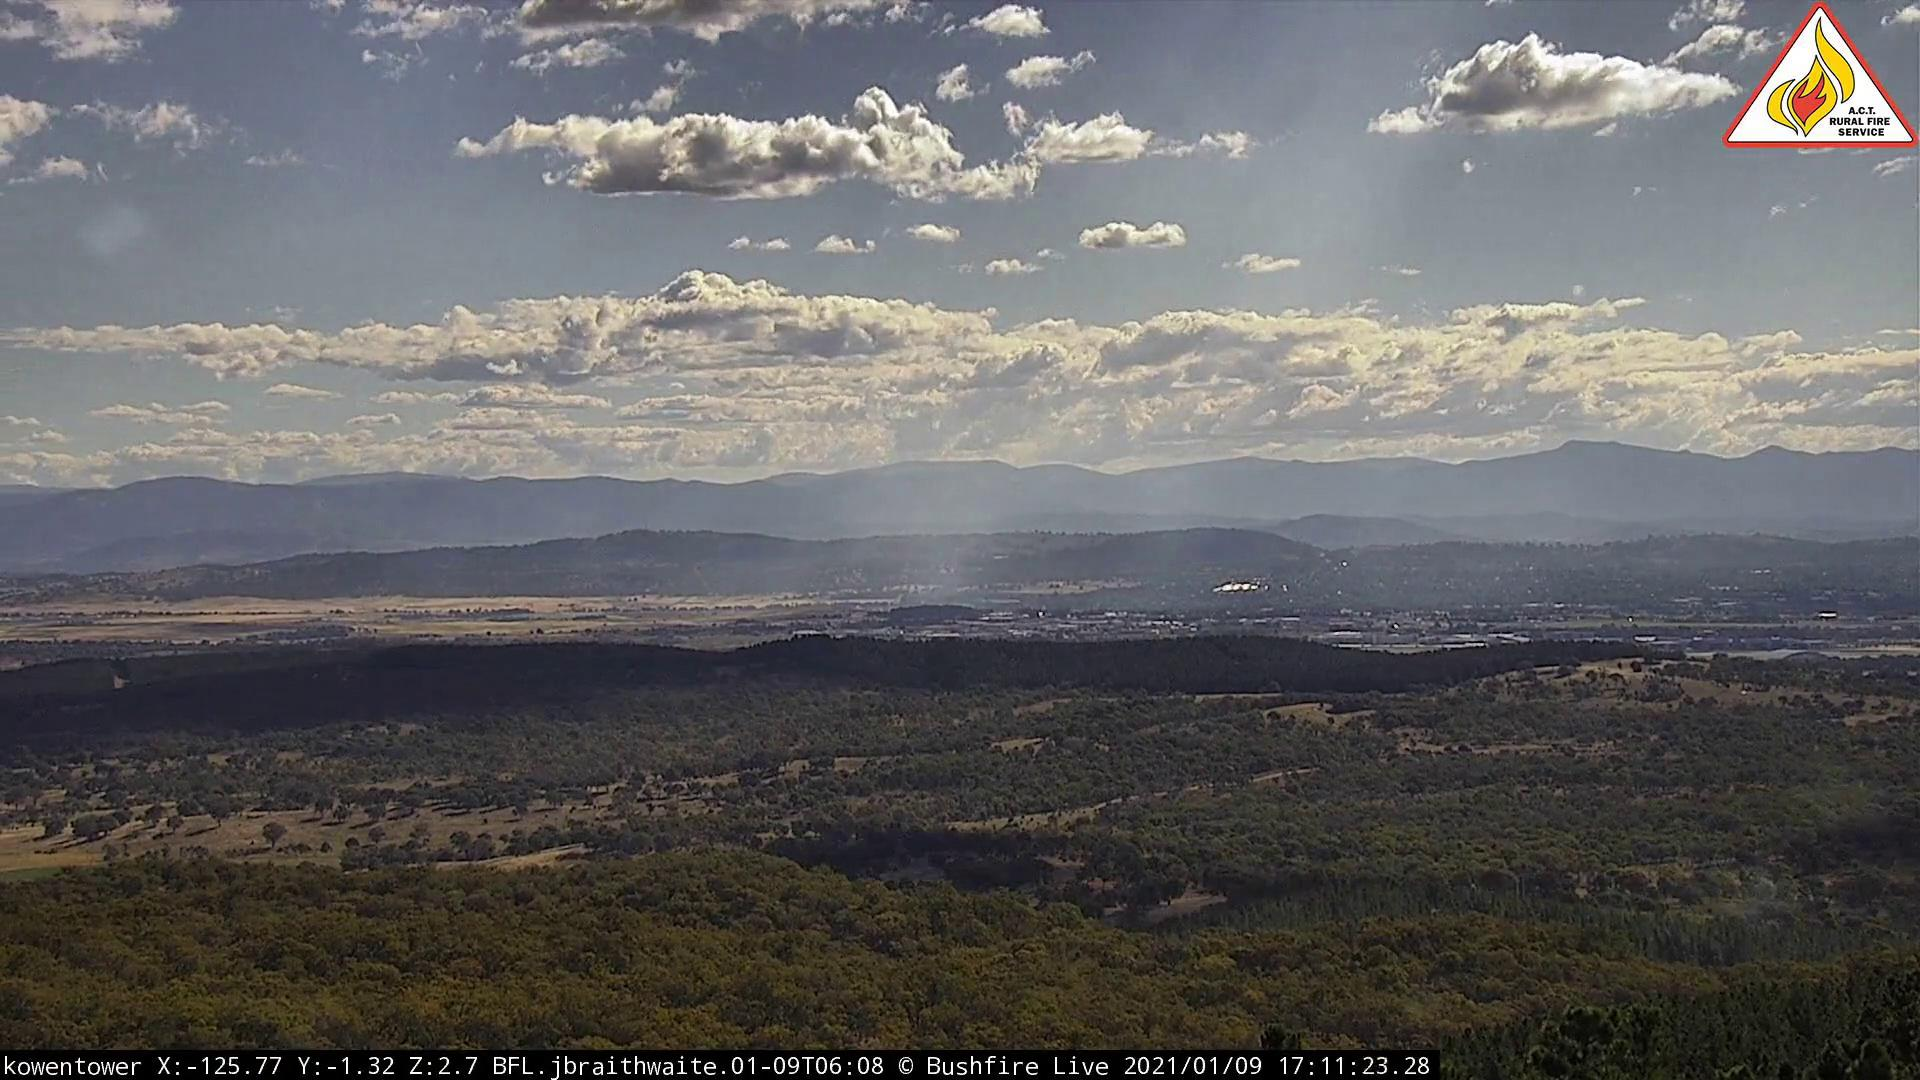Smoke: (770, 520, 1011, 611)
